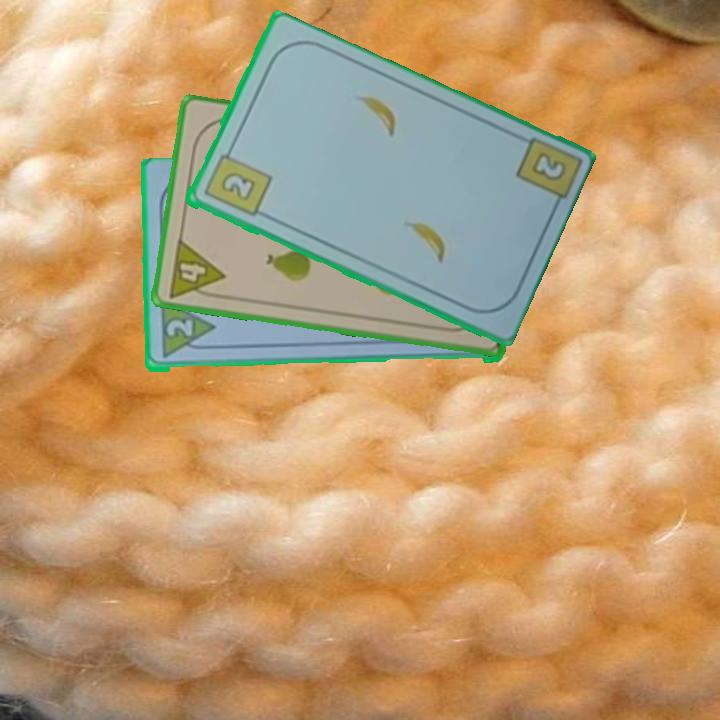2b: (199, 143, 274, 220), (527, 148, 569, 184)
2p: (162, 317, 195, 340)
4p: (165, 235, 228, 302)
